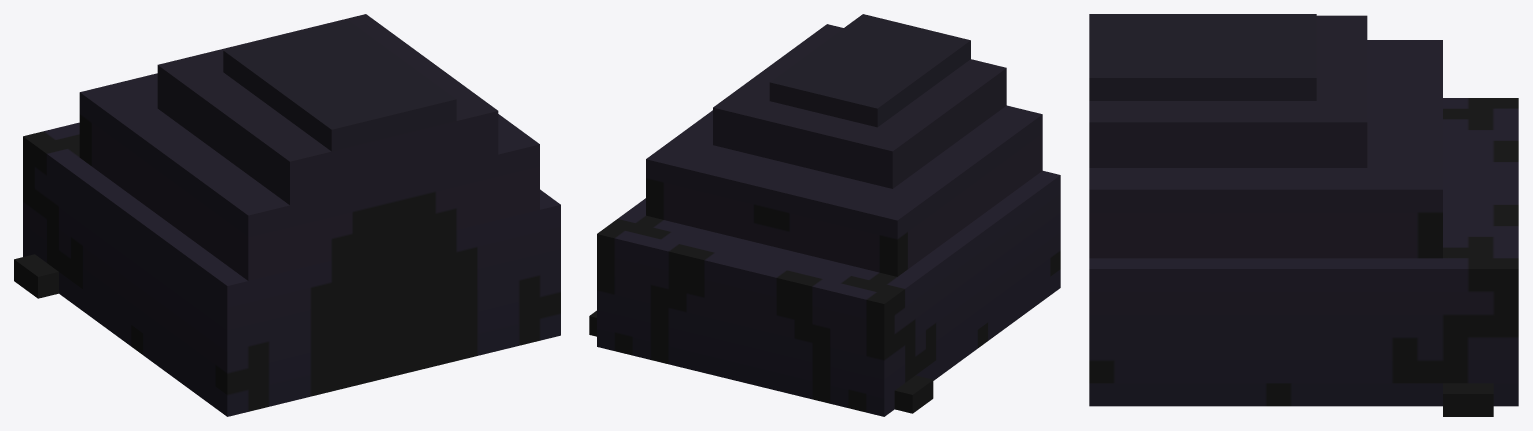
Rendered from Head043.fbx.
3 renders of one model, left to right at view 1: azimuth 30°, elevation 25°; view 2: azimuth 150°, elevation 25°; view 3: azimuth 270°, elevation 25°, orthographic. The views are drawn at different scales.
Visible parts, largest first — view 1: Head043; view 2: Head043; view 3: Head043.
Boxes of the visible parts, left/top/right/bottom form: Head043: left=14, top=14, right=560, bottom=416; Head043: left=589, top=14, right=1060, bottom=416; Head043: left=1089, top=14, right=1518, bottom=416.
Size of the model in its own units: 17.45 by 11.63 by 16.48.
